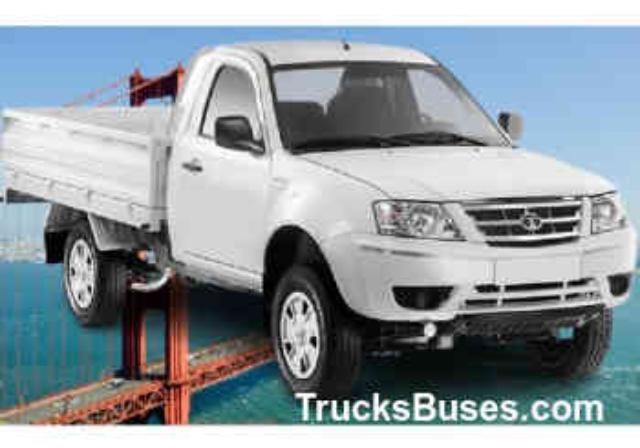pickup-truck: (0, 40, 638, 402)
